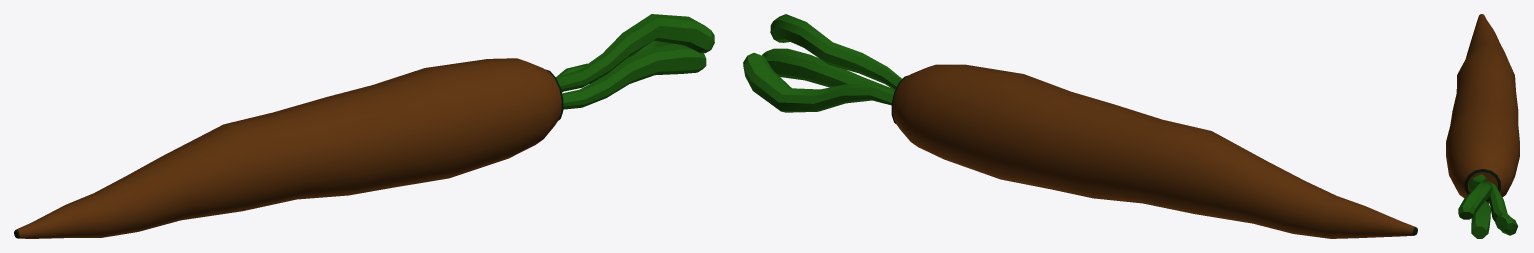
The model's file is MESH_Carrot.fbx.
3 renders of one model, left to right at view 1: azimuth 30°, elevation 25°; view 2: azimuth 150°, elevation 25°; view 3: azimuth 270°, elevation 25°, orthographic. The views are drawn at different scales.
Parts seen in each view (by area): view 1: MESH_Carrot; view 2: MESH_Carrot; view 3: MESH_Carrot.
Boxes of the visible parts, bbox=[...] form: MESH_Carrot: bbox=[14, 14, 714, 238]; MESH_Carrot: bbox=[743, 14, 1417, 238]; MESH_Carrot: bbox=[1446, 14, 1519, 238].
Size of the model in its own units: 0.2784 by 0.041 by 0.0388.
